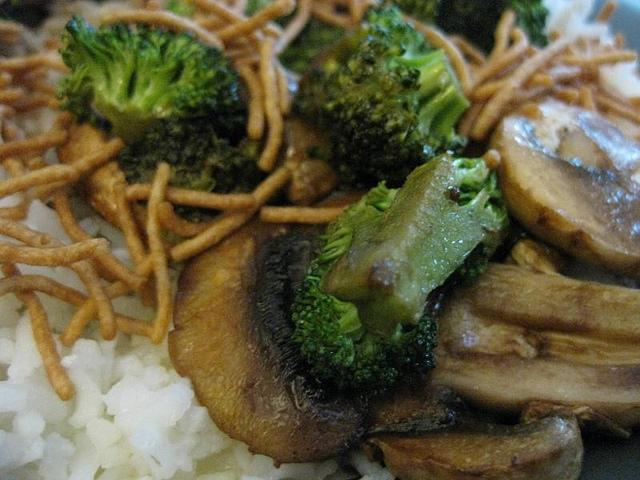broccoli: (296, 154, 506, 392), (49, 14, 271, 223), (292, 3, 474, 190), (434, 0, 550, 56)
mushroom: (164, 220, 364, 464), (430, 262, 640, 428), (487, 96, 640, 277), (362, 407, 584, 480), (81, 160, 125, 232)
